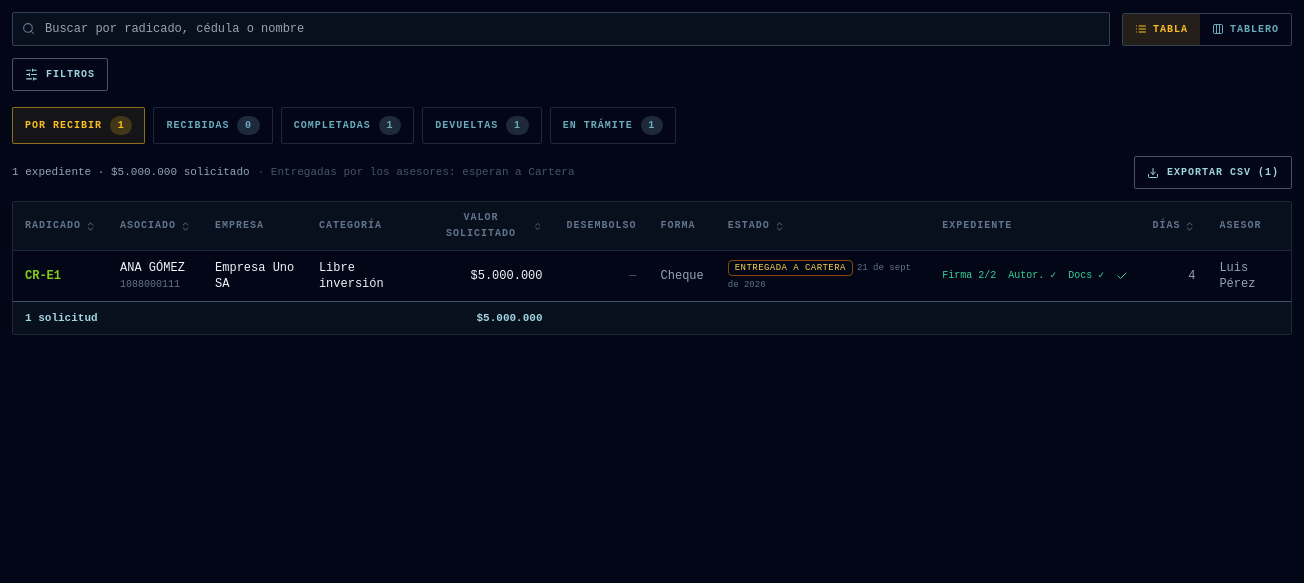
Bandeja de Cartera — filtros › trae las opciones de Cartera (no las de Créditos) y ofrece asesor pero no "requiere mi acción" ni estado
Expected: the link "CR-E1" is shown, [25,269,61,283]
Click the button "FILTROS" at (60, 74), box [12,58,108,91]
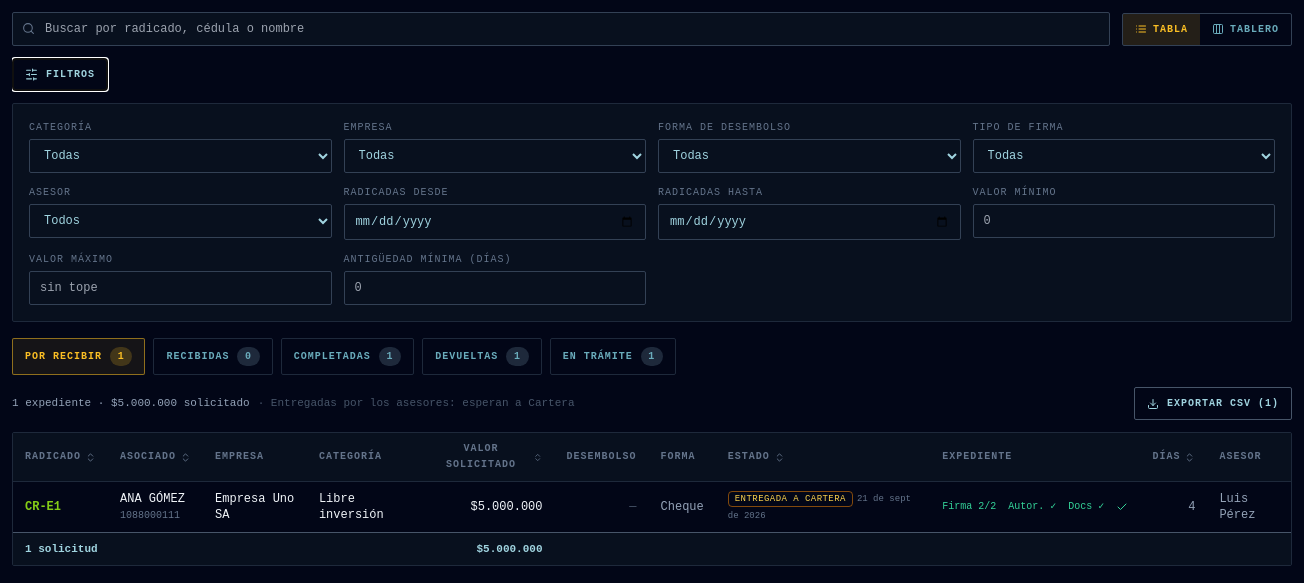
Expected: the dropdown labelled "ASESOR" is shown, [29,204,332,238]
